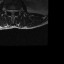CCS_stenosis: (12, 7, 14, 16)
LFS_normal: (16, 6, 19, 13)
LLS_normal: (14, 7, 16, 15)
RFS_normal: (8, 6, 10, 14)
RLS_normal: (10, 7, 12, 15)
